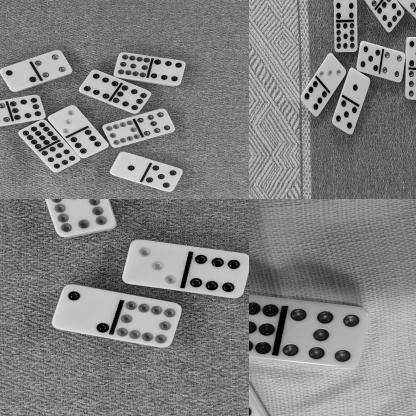pip-1: (111, 152, 148, 182), (344, 68, 371, 100)
pip-10: (114, 300, 183, 348), (51, 199, 118, 237), (113, 84, 154, 113), (102, 121, 142, 148)
pip-11: (116, 52, 151, 81), (334, 21, 358, 52)
pip-12: (249, 291, 279, 359), (18, 120, 59, 151)
pip-2: (53, 284, 115, 338), (0, 62, 38, 92)
pip-3: (124, 240, 186, 291), (49, 104, 85, 134), (319, 54, 347, 90)
pip-4: (35, 51, 74, 78), (383, 50, 406, 85), (395, 0, 416, 11)
pip-5: (332, 98, 360, 136), (145, 165, 183, 192), (357, 41, 382, 76), (406, 37, 416, 70)
pip-6: (186, 250, 249, 299), (70, 129, 110, 159), (80, 71, 119, 100), (150, 58, 186, 87), (301, 81, 328, 118), (332, 0, 357, 23)
pip-7: (282, 300, 369, 372), (137, 110, 176, 138), (0, 102, 11, 131), (358, 0, 386, 9)
pip-8: (11, 95, 46, 121), (378, 0, 405, 33)
pip-9: (40, 143, 78, 174)
